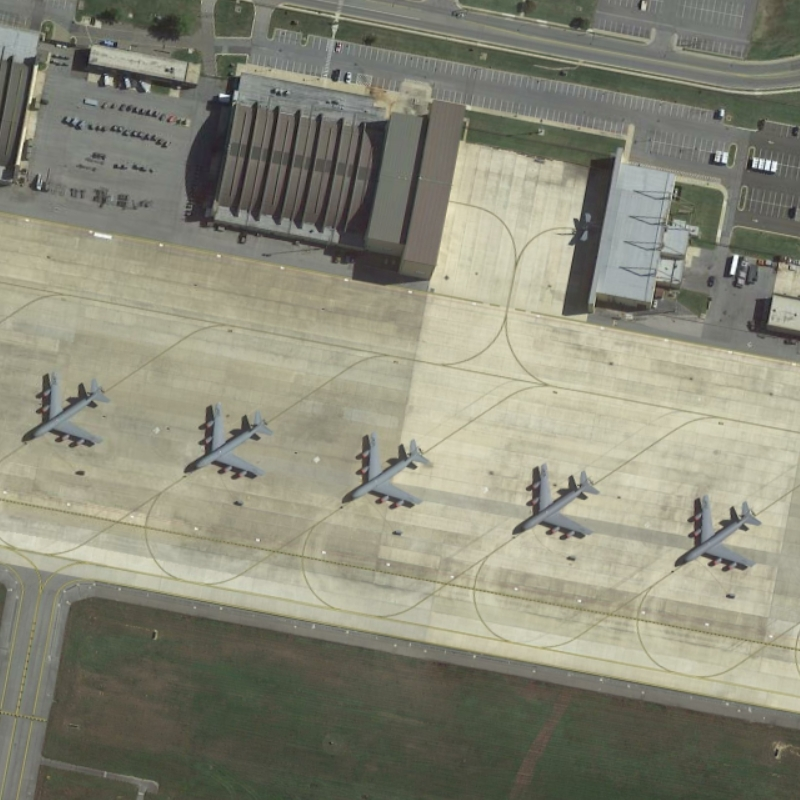A14: (672, 490, 766, 575), (508, 460, 602, 545), (345, 430, 436, 514), (188, 398, 278, 482), (25, 367, 113, 450)
